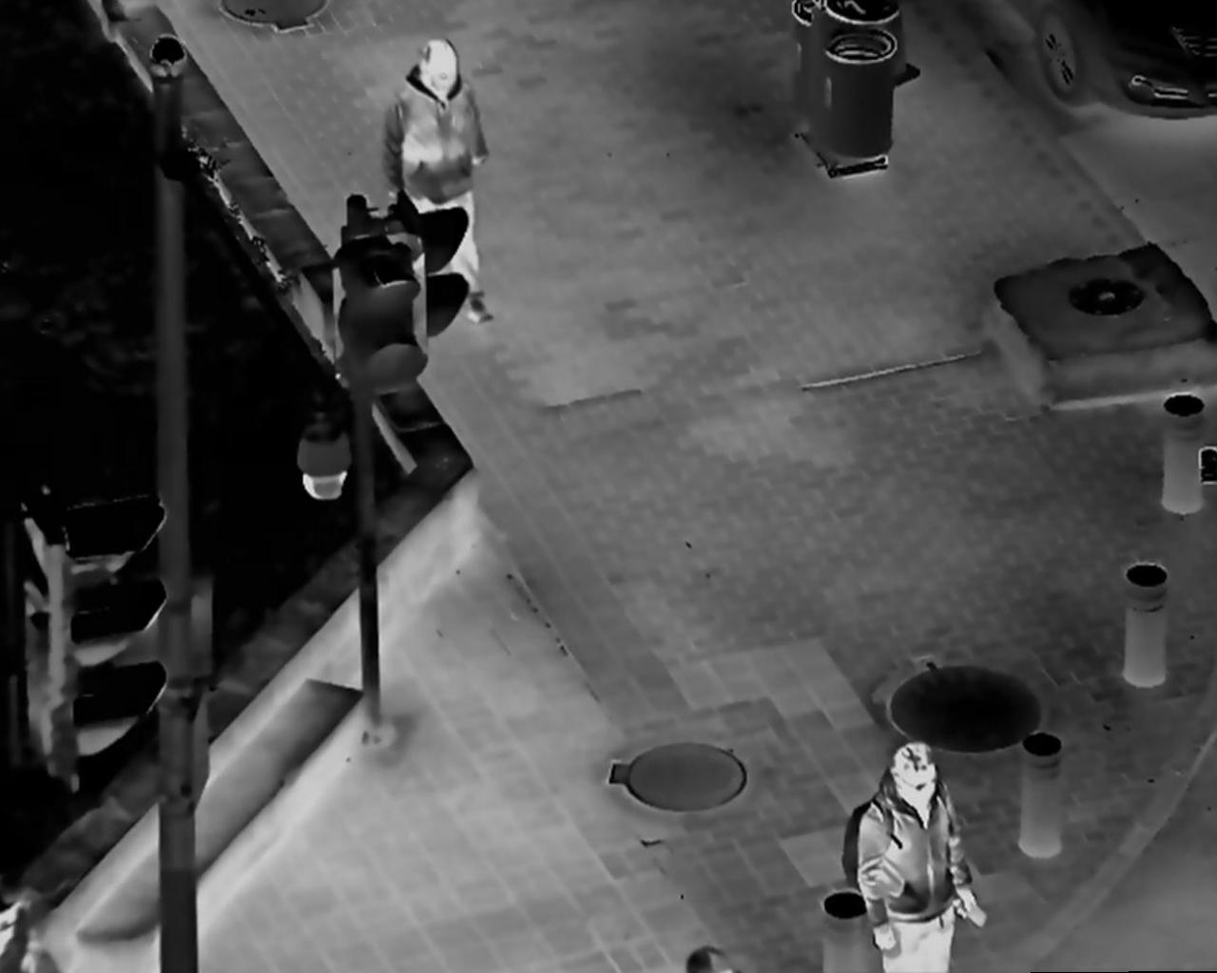person: (377, 30, 506, 325), (842, 735, 995, 973)
